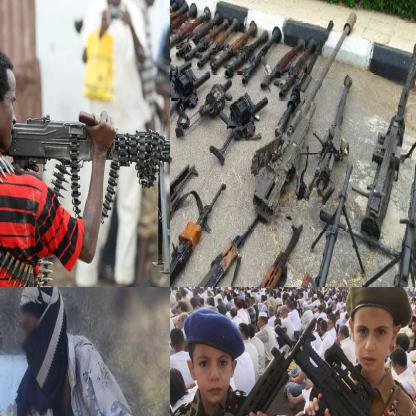rifle: (170, 316, 315, 415), (0, 112, 169, 188), (279, 325, 415, 415), (304, 77, 353, 203), (170, 216, 258, 286), (170, 182, 228, 286), (219, 223, 305, 286), (209, 94, 268, 164), (176, 80, 232, 142), (170, 164, 197, 286)
